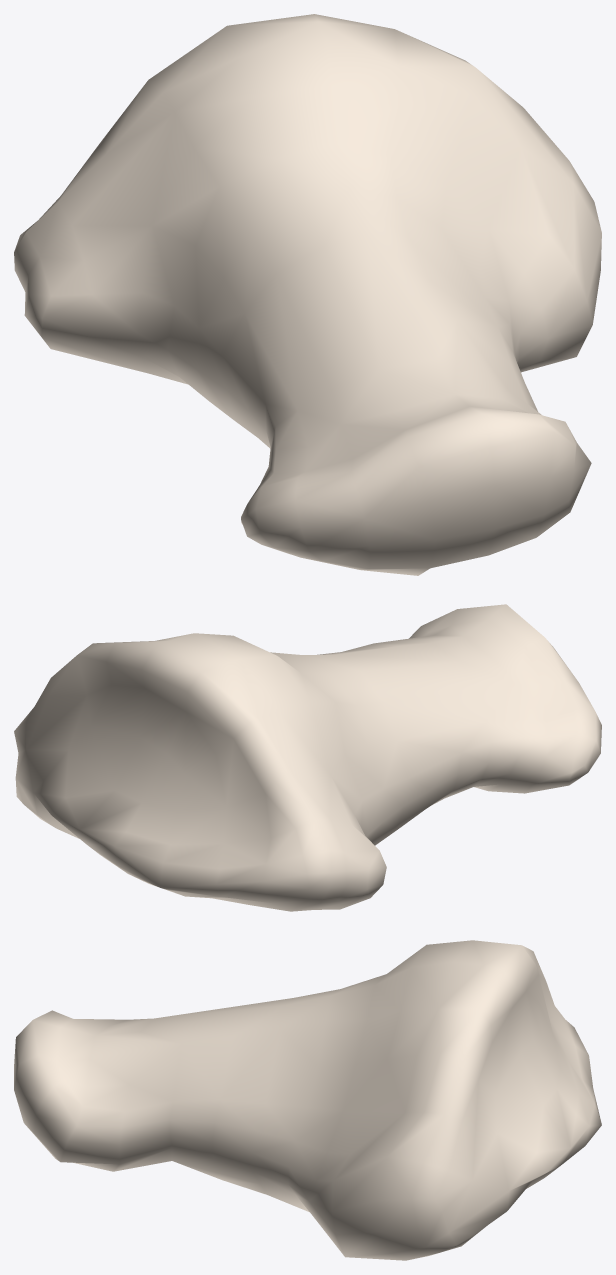
Rendered from right_toe_1_distal.glb.
3 renders of one model, top to bottom at view 1: azimuth 30°, elevation 25°; view 2: azimuth 150°, elevation 25°; view 3: azimuth 270°, elevation 25°, orthographic. The views are drawn at different scales.
Visible parts, largest first — view 1: Distal phalanx of first finger of foot.r; view 2: Distal phalanx of first finger of foot.r; view 3: Distal phalanx of first finger of foot.r.
Part boxes in pixels (x1=…): Distal phalanx of first finger of foot.r: x1=14, y1=14, x2=601, y2=575; Distal phalanx of first finger of foot.r: x1=14, y1=604, x2=601, y2=911; Distal phalanx of first finger of foot.r: x1=14, y1=940, x2=601, y2=1260.
Bounding box in the file's own units: 0.0208 × 0.0119 × 0.026.
